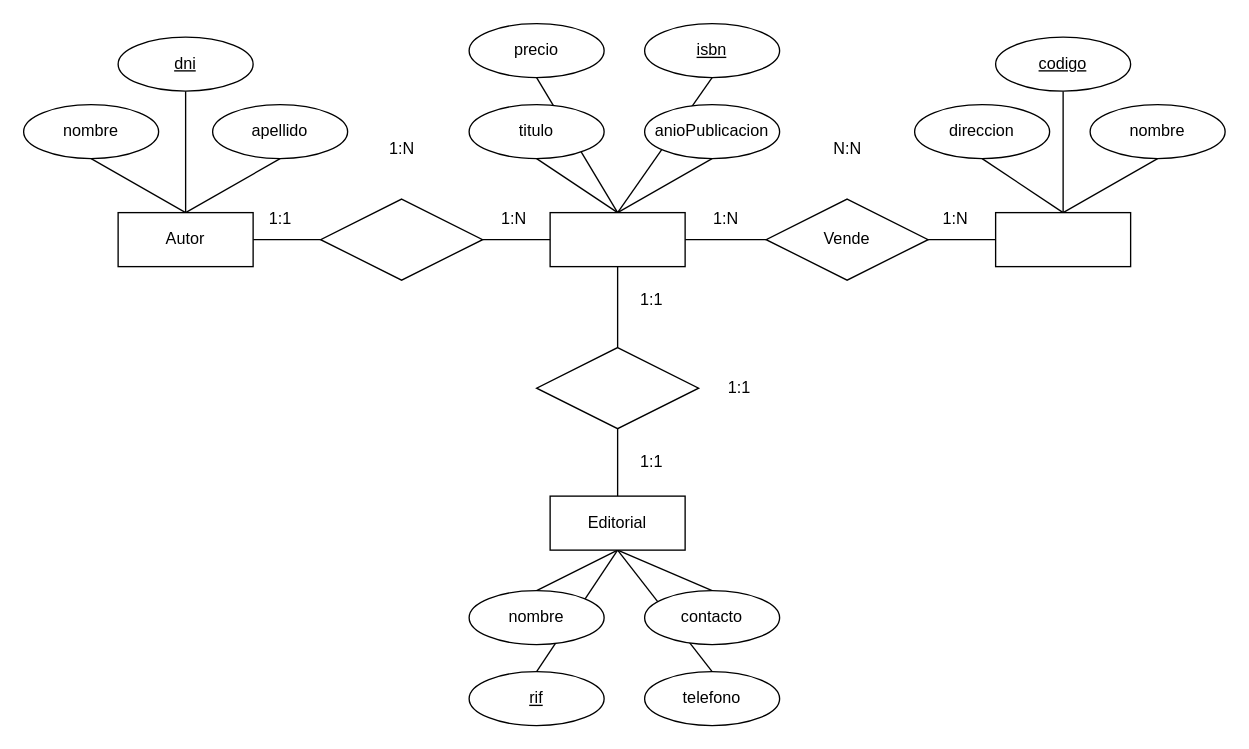
Image size: 1249x749. Some labels were removed from this diagram. Here are the shapes that lost their labels. From the top down, the centre of each, then its label:
At [401,239]: "Escribe".
At [617,239]: "Libro".
At [1062,239]: "Librería".
At [617,387]: "Produce".
